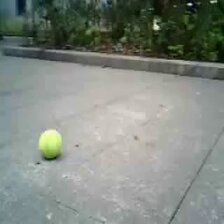tennis: (37, 130, 62, 157)
